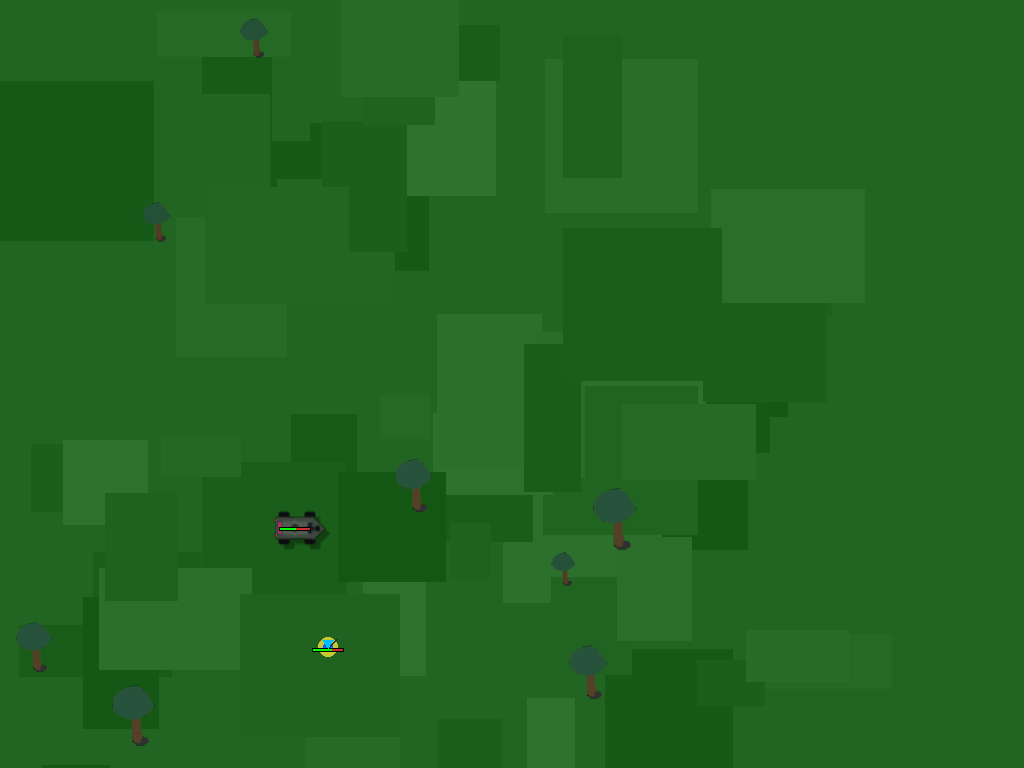M1A2_usa: (273, 504, 317, 548)
Rifleman: (309, 628, 346, 665)
